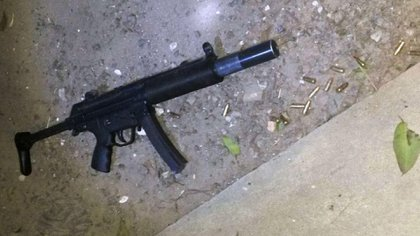Arma Real: (14, 37, 284, 174)
